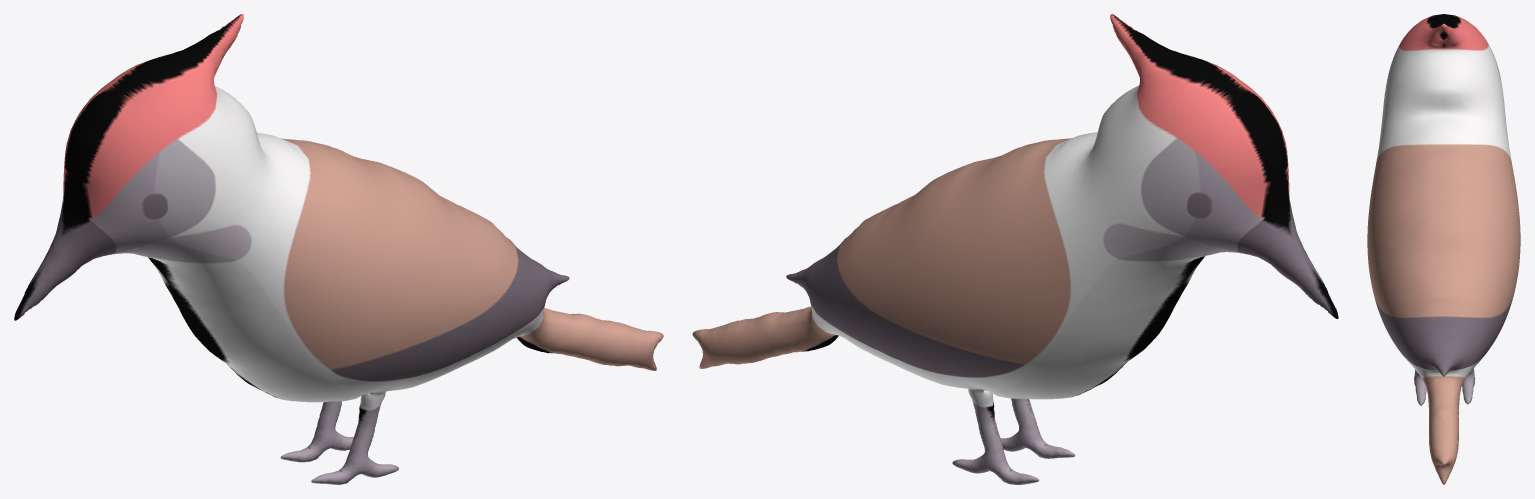
File: wp_animation.glb
3 renders of one model, left to right at view 1: azimuth 30°, elevation 25°; view 2: azimuth 150°, elevation 25°; view 3: azimuth 270°, elevation 25°, orthographic. The views are drawn at different scales.
Bounding box in the file's own units: 8.17 × 5.78 × 2.39.
1 material, 1 textured.
